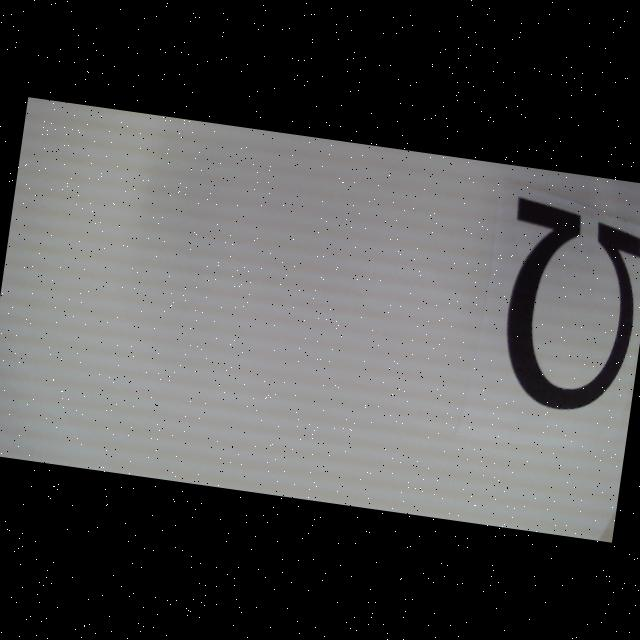OMEGA: (490, 197, 640, 418)
